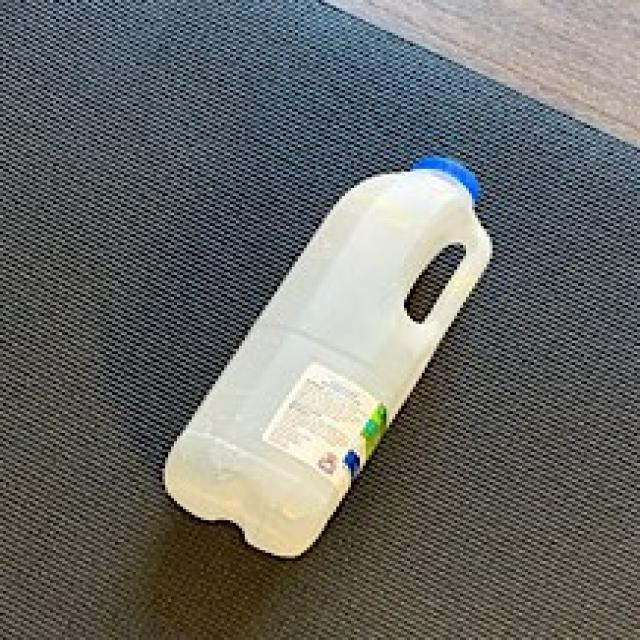HDPE Plastic: (153, 149, 501, 566)
